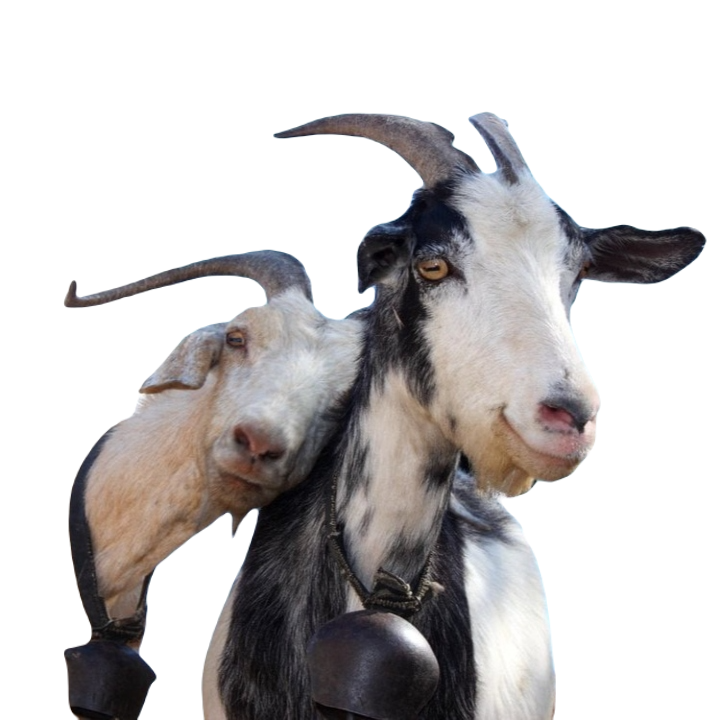Goat: (199, 113, 705, 719)
